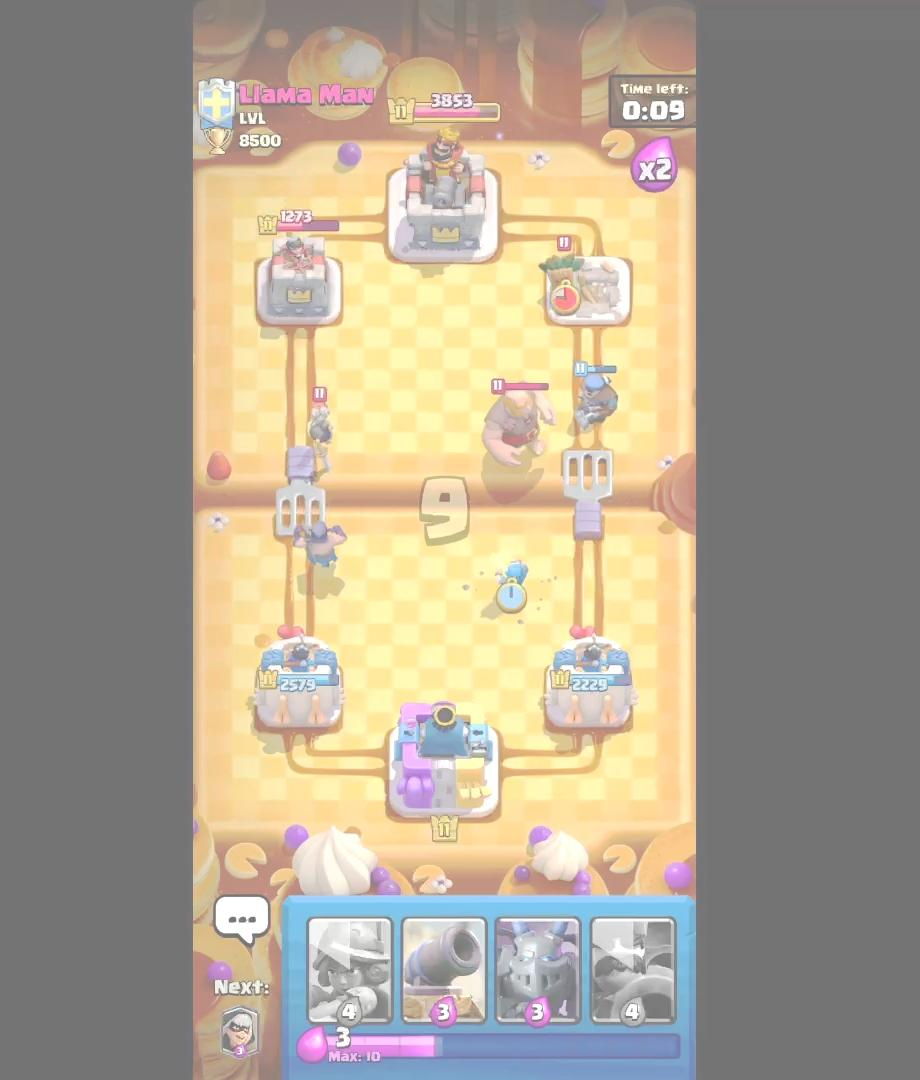Bomber: (301, 382, 344, 460)
Dart Goblin: (536, 234, 587, 310)
Giant: (479, 373, 561, 470)
